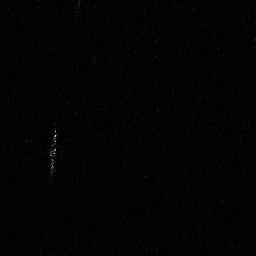ship: (48, 125, 58, 177)
